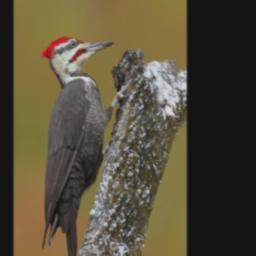Woodpecker: (40, 36, 130, 256)
